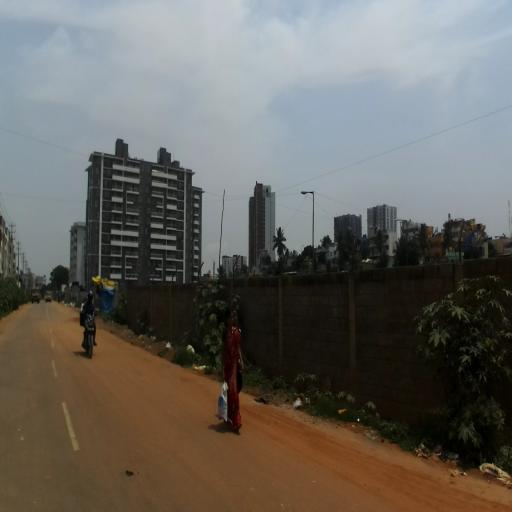street_light_0: (300, 188, 314, 201)
